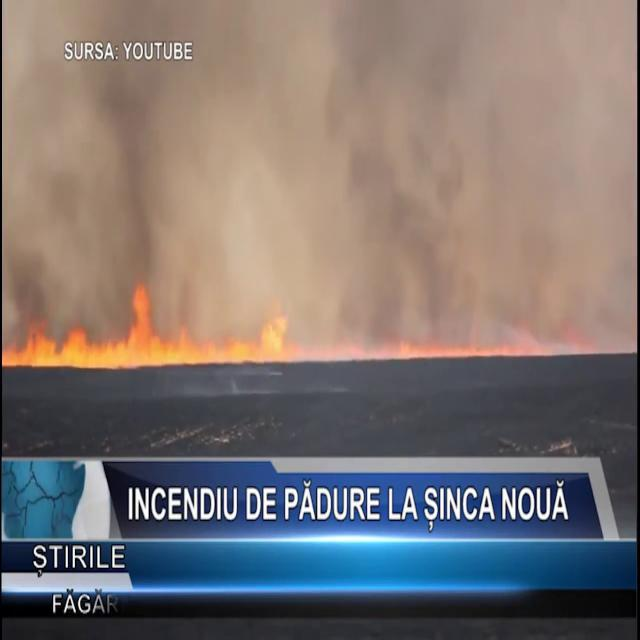Fire: (16, 278, 289, 371)
Smoke: (4, 2, 628, 345)
